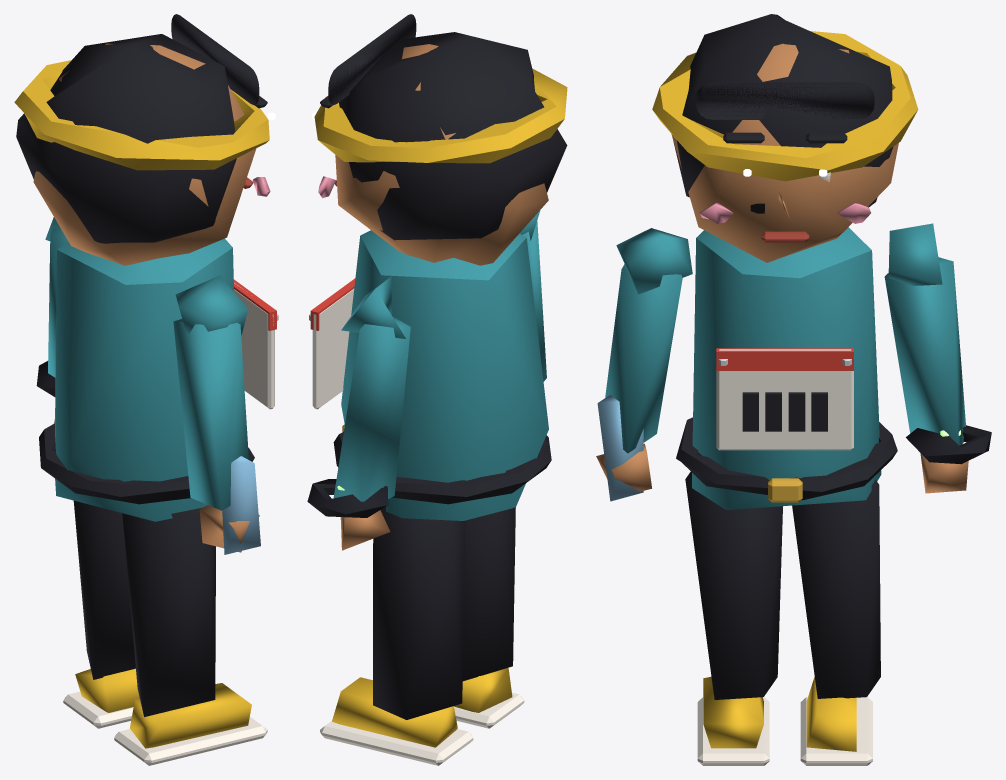
File: marathon_runner.glb
3 renders of one model, left to right at view 1: azimuth 30°, elevation 25°; view 2: azimuth 150°, elevation 25°; view 3: azimuth 270°, elevation 25°, orthographic.
Visible parts, largest first — view 1: marathon_runner; view 2: marathon_runner; view 3: marathon_runner.
Boxes of the visible parts, x1=… form: marathon_runner: x1=14, y1=14, x2=278, y2=765; marathon_runner: x1=307, y1=14, x2=567, y2=765; marathon_runner: x1=596, y1=14, x2=991, y2=765.
Size of the model in its own units: 0.4627 by 1.37 by 0.7014.
Materials: 1 (1 with a texture image).
